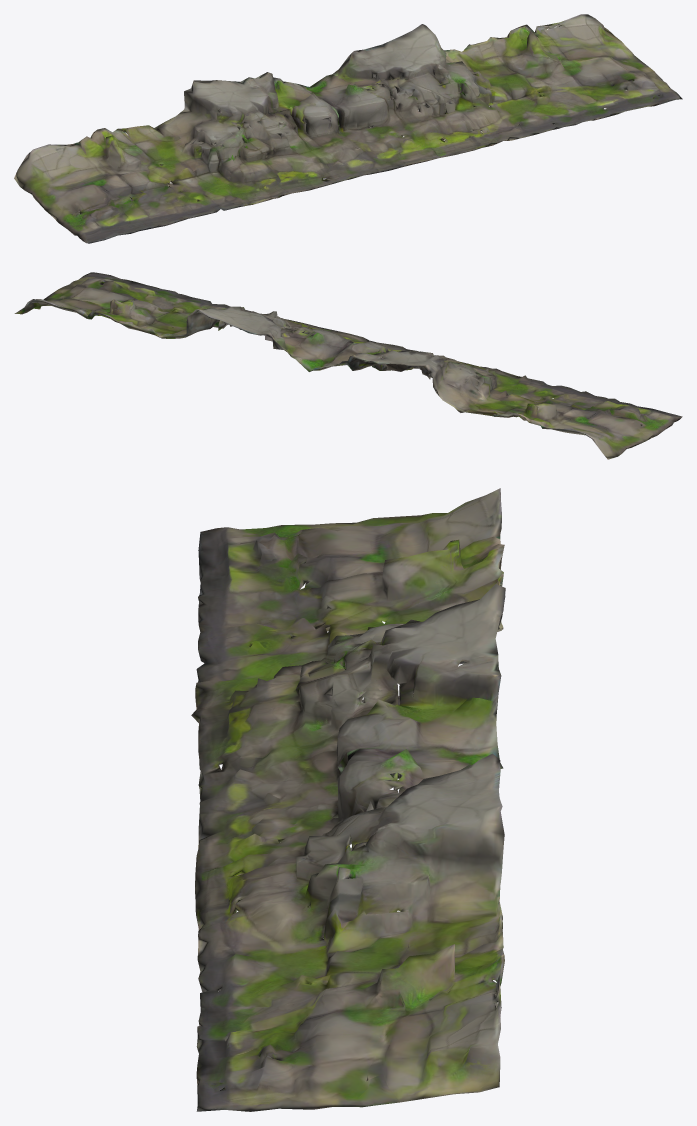
The model's file is low_poly_canyon_segme_0412150811_texture.glb.
3 views of the same model, one above another, from view 1: azimuth 30°, elevation 25°; view 2: azimuth 150°, elevation 25°; view 3: azimuth 270°, elevation 25° (orthographic). The views are drawn at different scales.
Size of the model in its own units: 2 by 0.2069 by 0.4566.
Materials: 1 (1 with a texture image).
